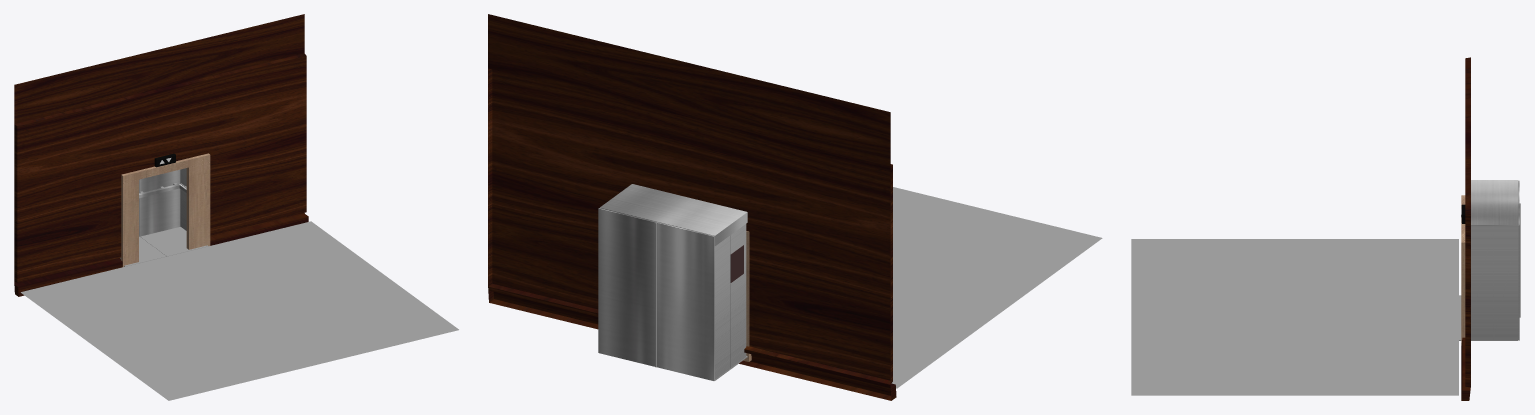
Rendered from lift finial.fbx.
3 renders of one model, left to right at view 1: azimuth 30°, elevation 25°; view 2: azimuth 150°, elevation 25°; view 3: azimuth 270°, elevation 25°, orthographic. The views are drawn at different scales.
Parts seen in each view (by area): view 1: pPlane1, pPlane2, pCube1, pCube5, pCube4; view 2: pPlane1, pPlane2, pCube5, pCube34, pCube6; view 3: pPlane2, pCube7, pPlane1, pCube34, pCube1.
Part boxes in pixels (x1=…): pPlane1: x1=14, y1=14, x2=308, y2=296; pPlane2: x1=21, y1=221, x2=458, y2=400; pCube1: x1=121, y1=153, x2=210, y2=266; pCube5: x1=139, y1=169, x2=180, y2=236; pCube4: x1=124, y1=227, x2=208, y2=266; pPlane1: x1=488, y1=14, x2=896, y2=400; pPlane2: x1=891, y1=187, x2=1102, y2=388; pCube5: x1=598, y1=208, x2=714, y2=380; pCube34: x1=600, y1=184, x2=747, y2=245; pCube6: x1=714, y1=224, x2=746, y2=379; pPlane2: x1=1131, y1=239, x2=1458, y2=395; pCube7: x1=1471, y1=225, x2=1518, y2=340; pPlane1: x1=1461, y1=57, x2=1470, y2=400; pCube34: x1=1471, y1=180, x2=1518, y2=225; pCube1: x1=1461, y1=195, x2=1465, y2=345.
Bounding box in the file's own units: 6.74 × 4.62 × 7.07.
Materials: 15 (7 with a texture image).
